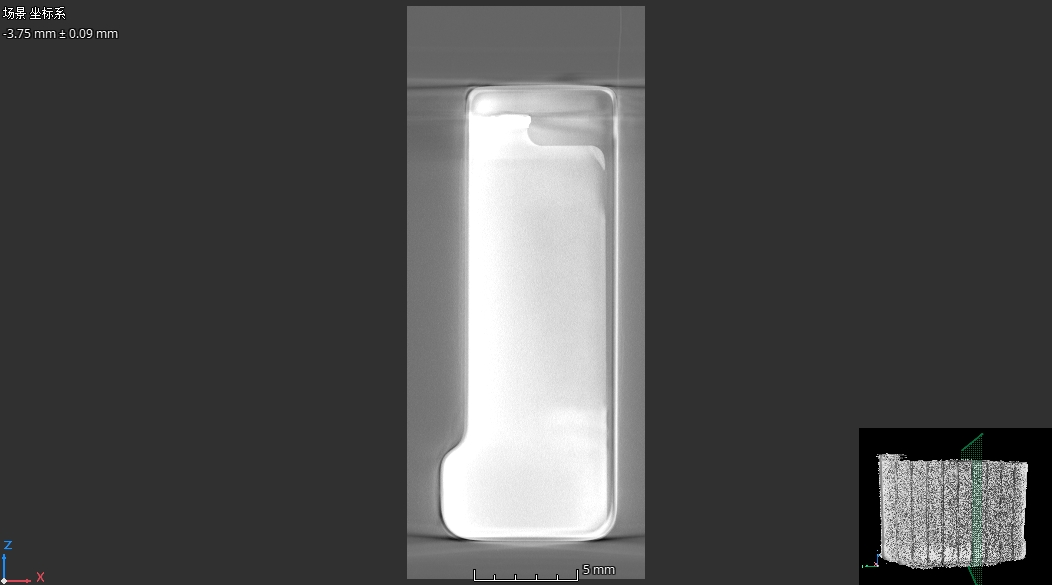damage: (587, 142, 609, 170)
